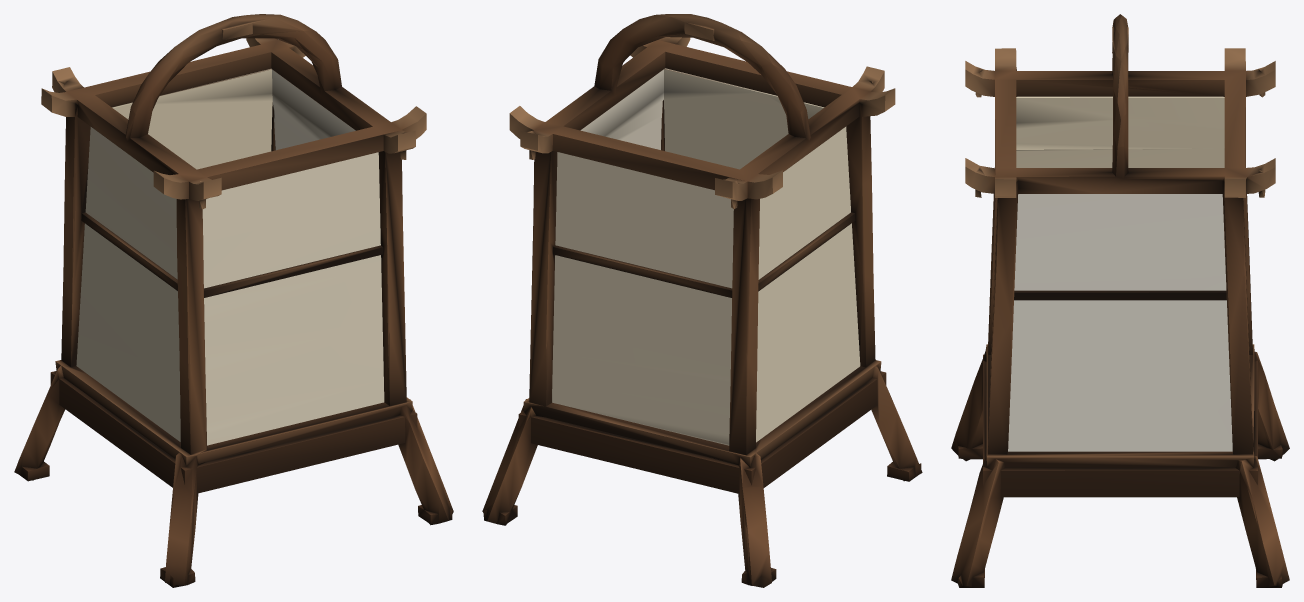
The model's file is andon.glb.
3 renders of one model, left to right at view 1: azimuth 30°, elevation 25°; view 2: azimuth 150°, elevation 25°; view 3: azimuth 270°, elevation 25°, orthographic. The views are drawn at different scales.
Parts seen in each view (by area): view 1: andon_LOD0; view 2: andon_LOD0; view 3: andon_LOD0.
Boxes of the visible parts, x1,y1,x2,y2 form: andon_LOD0: [14, 14, 453, 587]; andon_LOD0: [482, 14, 922, 587]; andon_LOD0: [951, 14, 1289, 587].
Size of what is drawn, in the model's own units: 0.5744 by 0.9148 by 0.5696.
